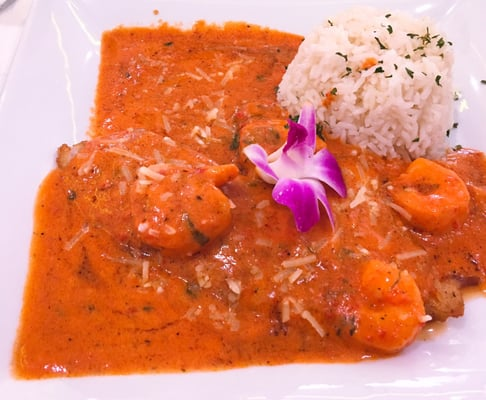sushi: (28, 8, 482, 378)
